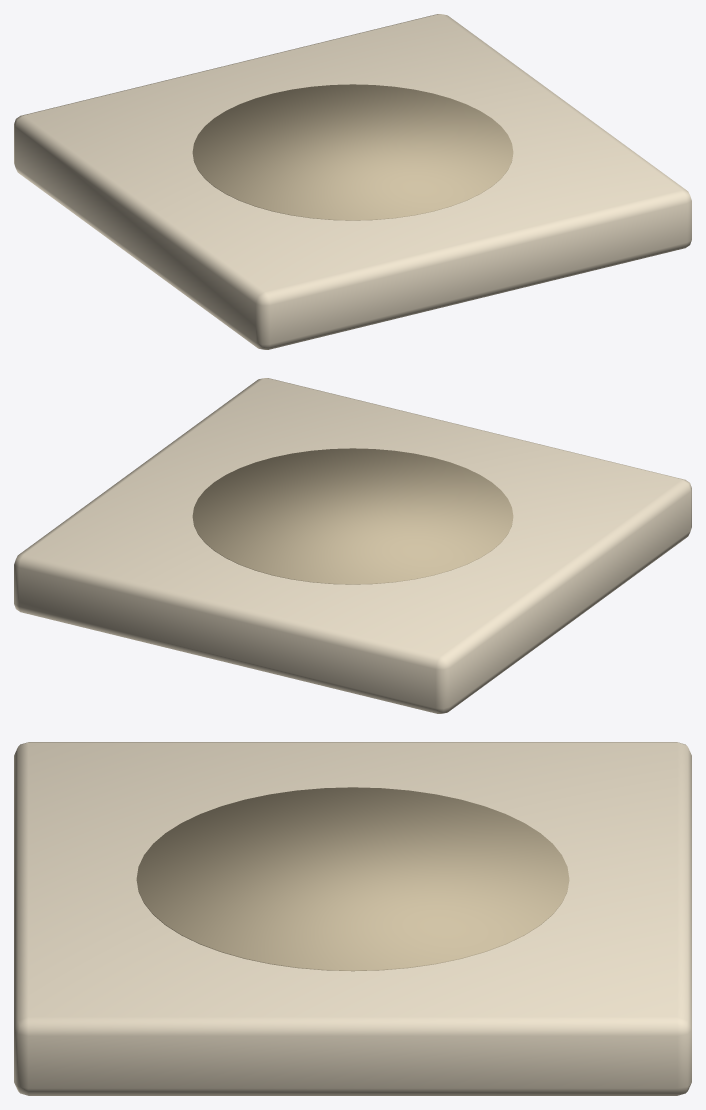
The model's file is socket.glb.
3 renders of one model, top to bottom at view 1: azimuth 30°, elevation 25°; view 2: azimuth 150°, elevation 25°; view 3: azimuth 270°, elevation 25°, orthographic. The views are drawn at different scales.
Parts seen in each view (by area): view 1: Socket_Body, Socket_Well; view 2: Socket_Body, Socket_Well; view 3: Socket_Body, Socket_Well.
Boxes of the visible parts, bbox=[...] form: Socket_Body: bbox=[14, 14, 691, 349]; Socket_Well: bbox=[192, 84, 513, 220]; Socket_Body: bbox=[14, 378, 691, 713]; Socket_Well: bbox=[192, 448, 513, 584]; Socket_Body: bbox=[14, 742, 691, 1095]; Socket_Well: bbox=[136, 787, 569, 971].
Size of the model in its own units: 0.94 by 0.1215 by 0.94.
